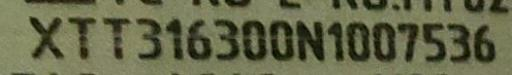letter: (25, 14, 65, 59), (134, 15, 164, 60), (67, 15, 97, 58), (296, 18, 324, 61), (102, 15, 128, 60), (240, 19, 268, 60), (447, 19, 475, 60), (184, 18, 210, 61), (474, 22, 502, 61), (212, 17, 238, 58), (424, 21, 450, 62), (325, 17, 349, 60), (397, 19, 423, 58), (346, 21, 372, 60), (270, 19, 294, 60), (374, 21, 396, 60), (165, 17, 185, 58)
